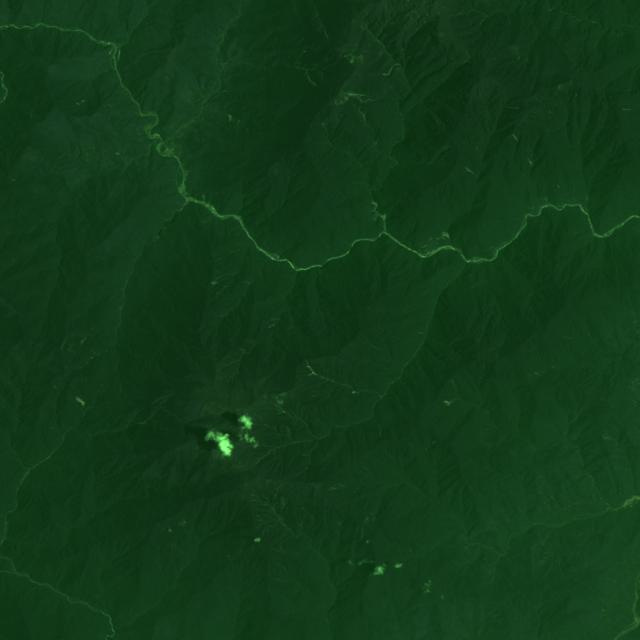landslides: (171, 542, 190, 563), (260, 522, 280, 537), (216, 359, 239, 370), (210, 274, 235, 284), (280, 497, 289, 517), (326, 383, 337, 399), (373, 417, 382, 435), (444, 397, 460, 407), (306, 70, 316, 86), (342, 91, 364, 98), (76, 396, 86, 408), (213, 277, 228, 285), (466, 167, 477, 177), (204, 214, 215, 224), (52, 382, 60, 395)
